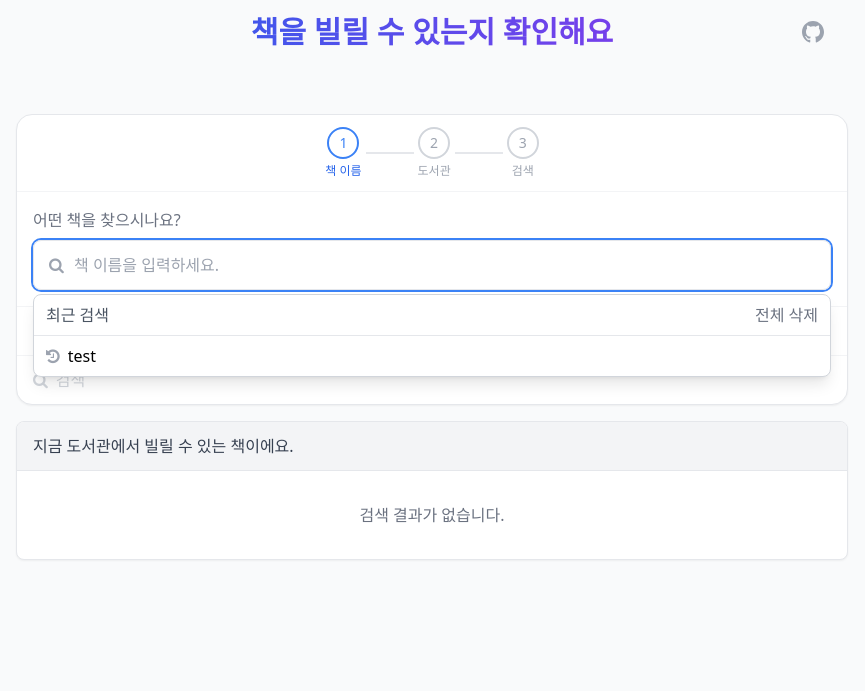
Test: App - Cancel Search › should show empty results when cancelling before any library completes
The image size is (865, 691).
Type "empty" into the field with test id "search-input" at (432, 265), box 33,240 -> 831,290
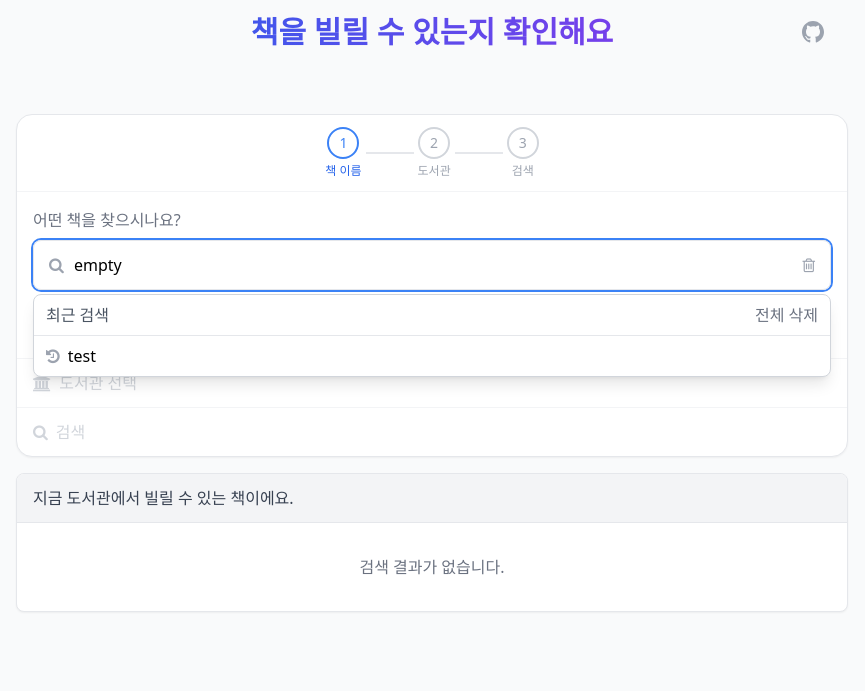
Press Enter in the field with test id "search-input", box 33,240 -> 831,290
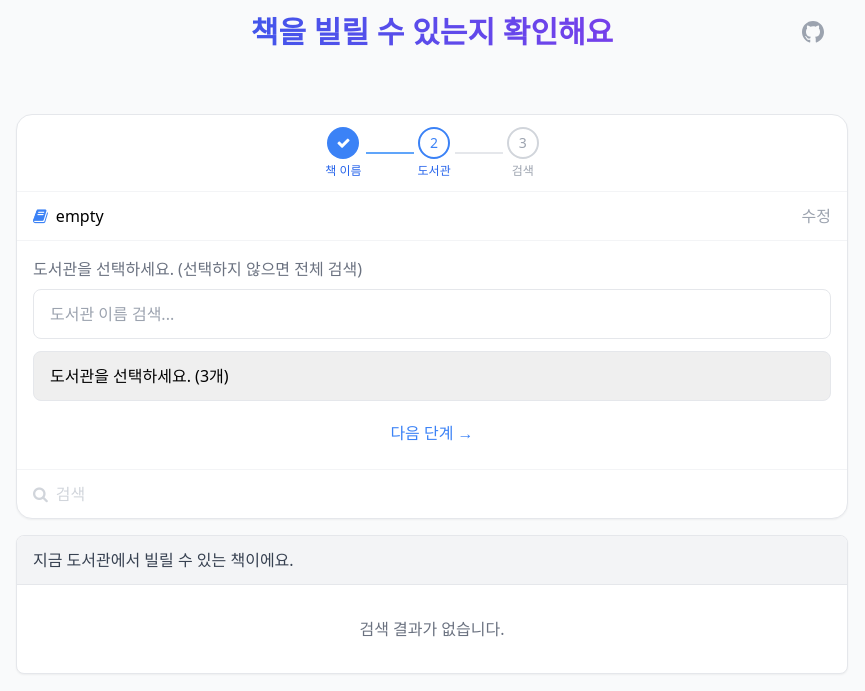
Click the button with test id "step-2-next" at (432, 433), box 33,413 -> 831,453
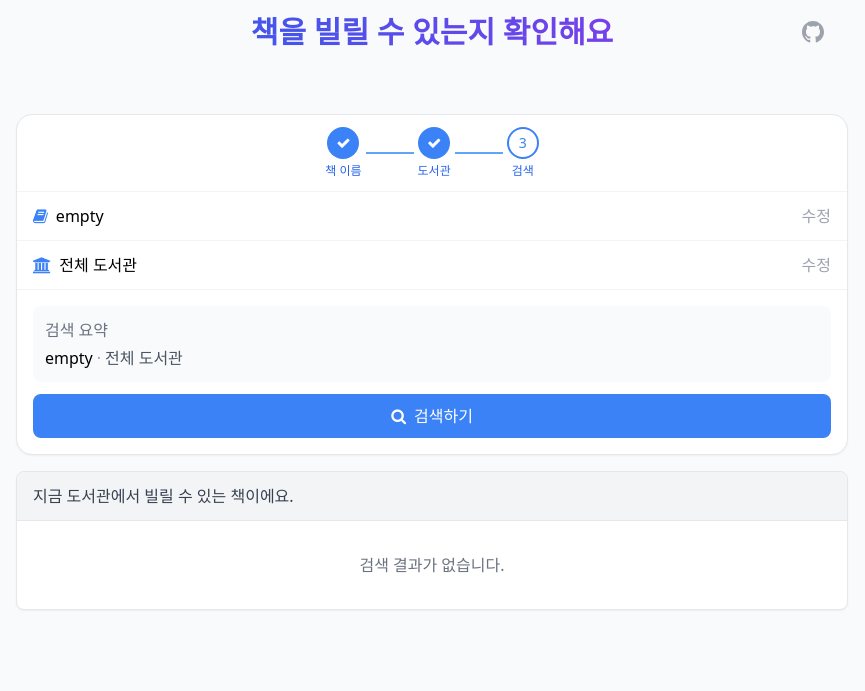
Click the button with test id "search-submit-button" at (432, 416), box 33,394 -> 831,438
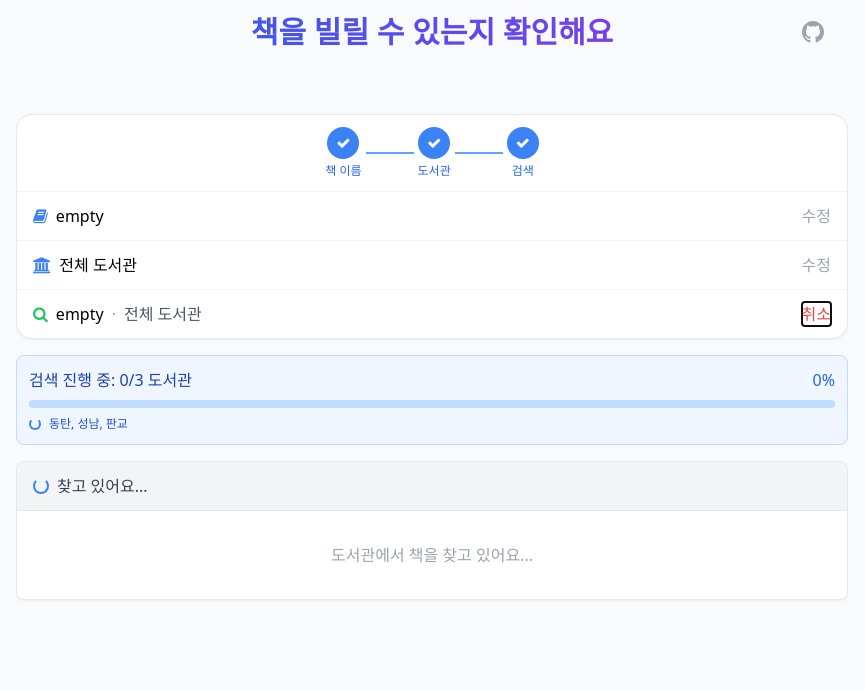
Expected: the button with test id "cancel-button" is shown
Click the button with test id "cancel-button" at (816, 314), box 802,302 -> 831,326
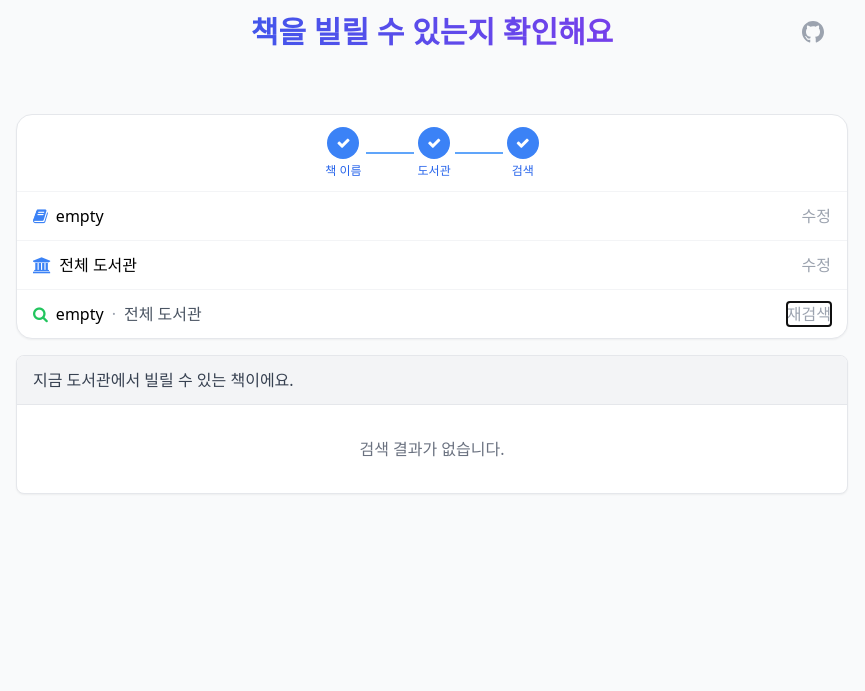
Expected: the text "검색 결과가 없습니다." is shown, 360,438 -> 505,460
